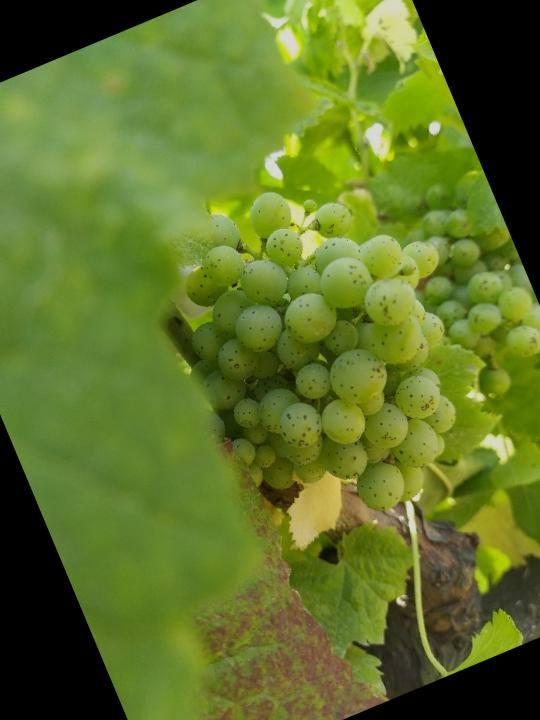grape: (130, 137, 523, 561)
